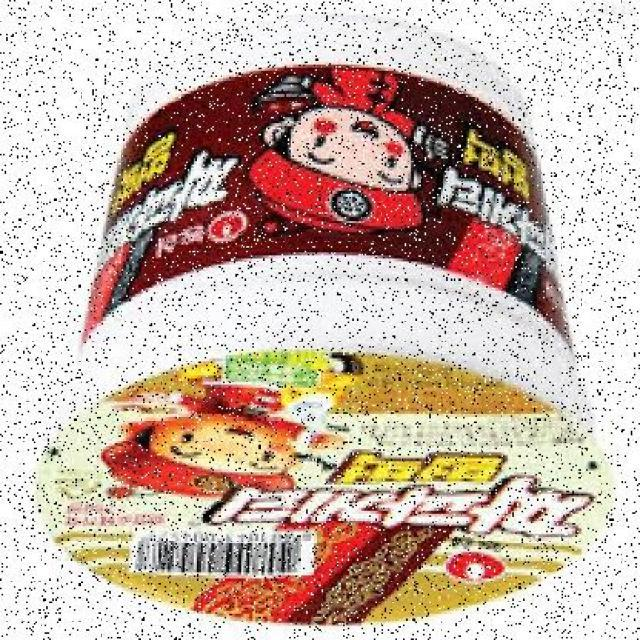Miscellaneous: (26, 43, 596, 634)
